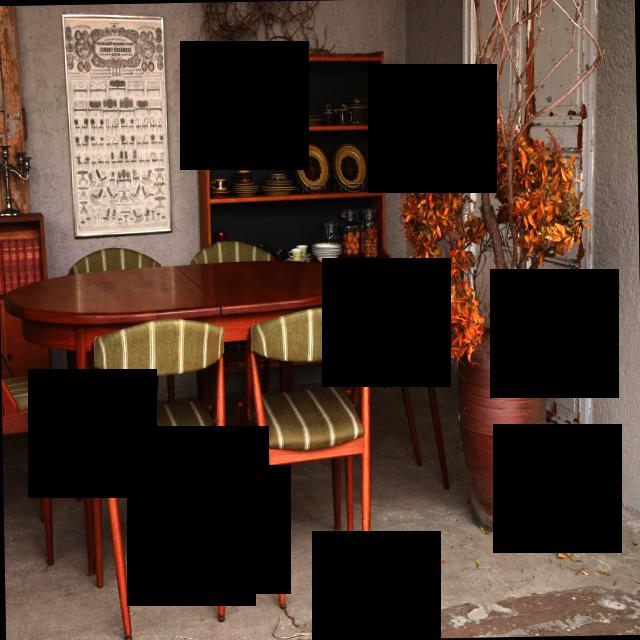chair vintage: (82, 315, 232, 640), (232, 302, 382, 614)
